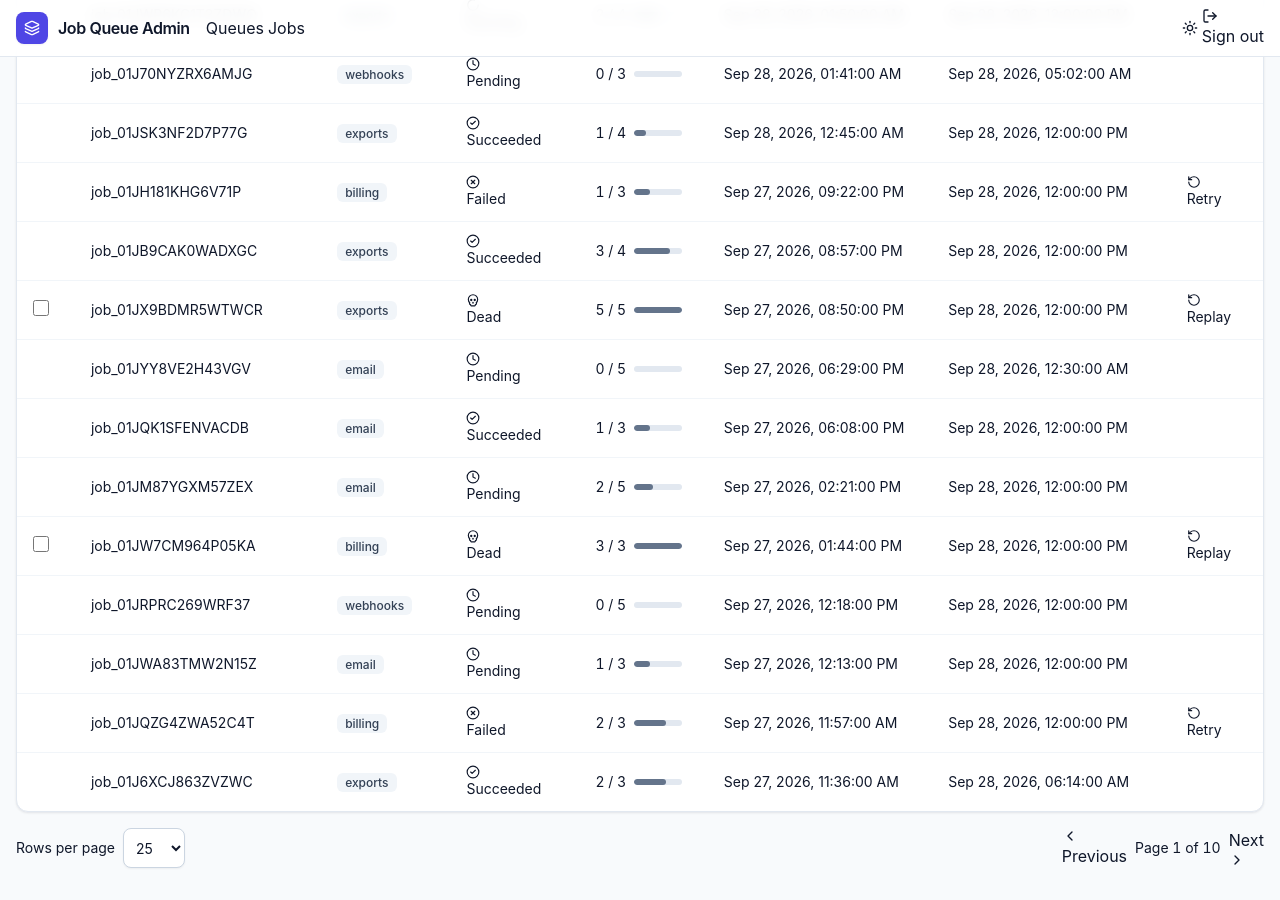
Test: jobs list: loading and paging › moves between pages and keeps the page in the URL
This screenshot has width=1280, height=900.
(page scrolled)
Click the button "Next" at (1246, 848), box [1229,828,1264,868]
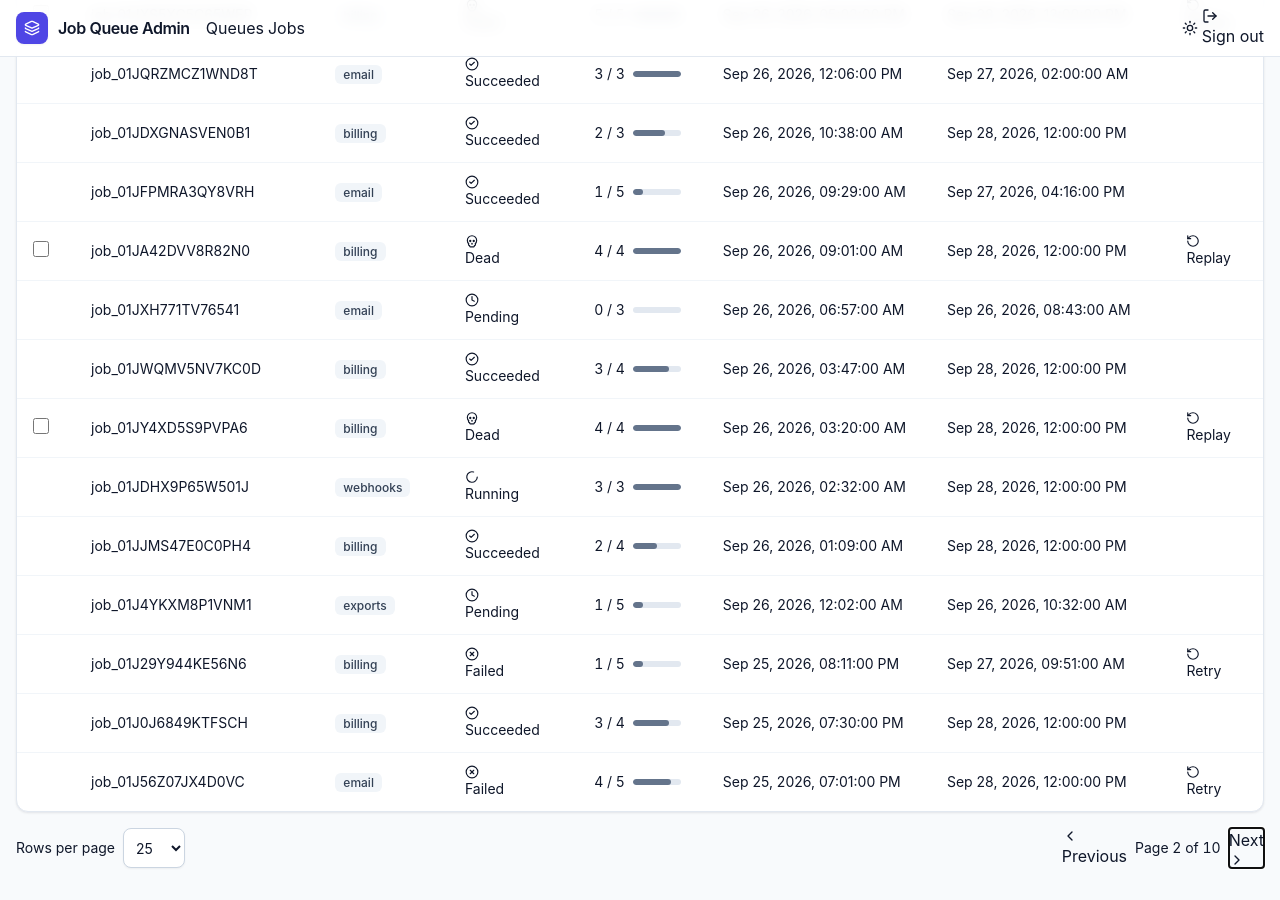
expect the text "Page 2 of 10" is shown: met, box [1135,838,1221,858]
Click the button "Previous" at (1094, 848), box [1062,828,1127,868]
(page scrolled)
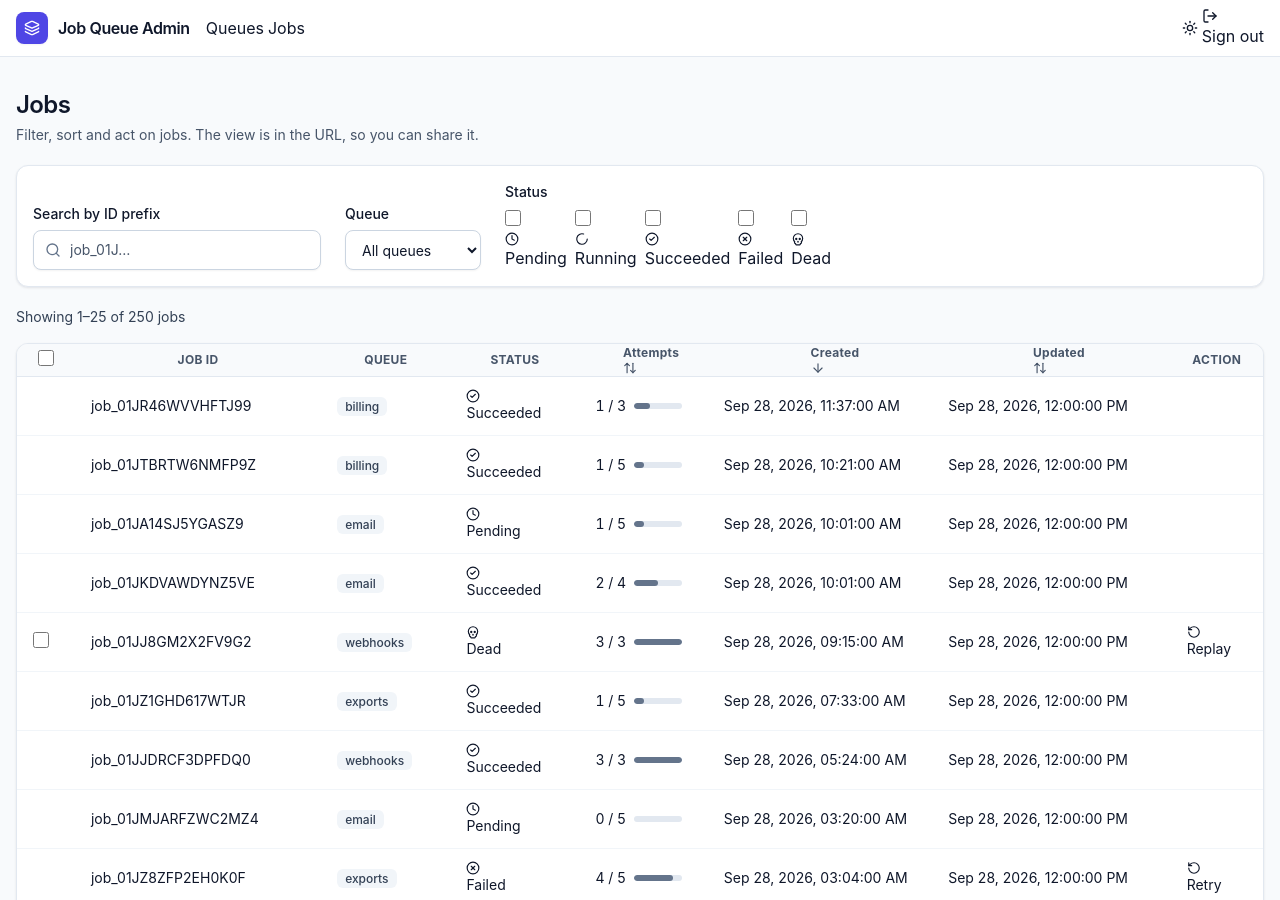
expect the text "Showing 1–25 of 250 jobs" is shown: met, box [16,308,185,325]
